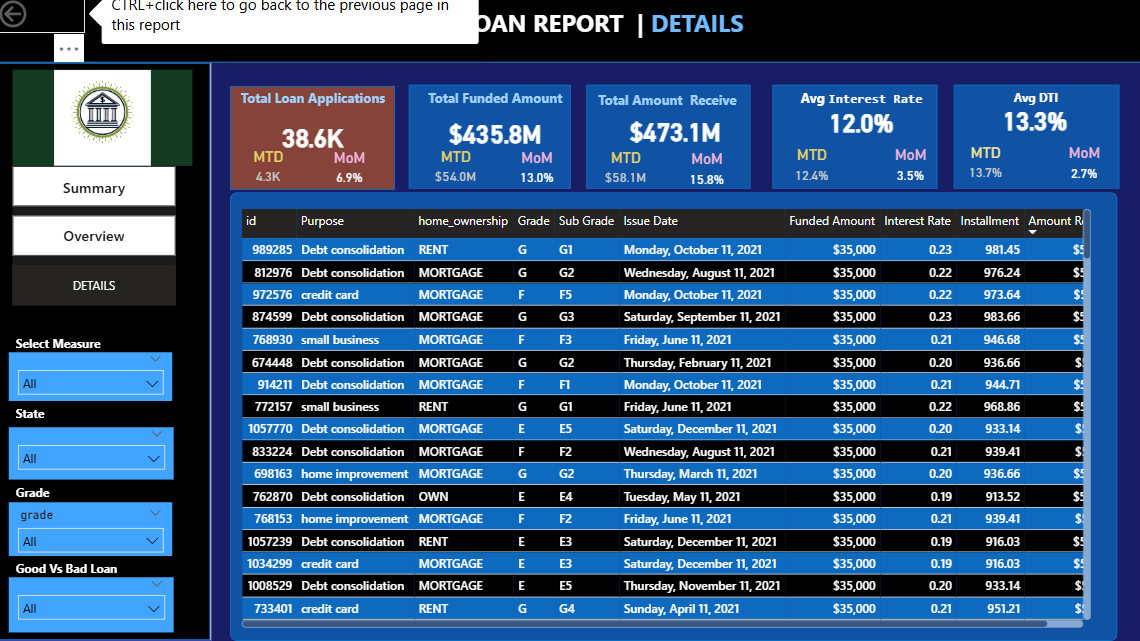

Layout of this report page (visuals, bound fields, positions):
{"tool":"powerbi","page":{"name":"DETAILS","canvas":[1280,720],"ordinal":2},"visuals":[{"type":"shape","box":[867.1,99.7,184,116.3],"z":0},{"type":"card","fields":{"Values":["financial_loan.Total Amount Recived"]},"box":[692.9,105.9,131.7,88.2],"z":0,"group":"g6"},{"type":"card","fields":{"Values":["financial_loan.Total Funded Amount"]},"box":[492.4,108.7,131.7,88.2],"z":0,"group":"g5"},{"type":"card","fields":{"Values":["financial_loan.Total Bank Loan Application"]},"box":[288.5,113.5,131.7,88.2],"z":0,"group":"g2"},{"type":"group","id":"g1","title":"Group 3","box":[875.5,96.7,180.7,121.9],"z":1000},{"type":"textbox","box":[268.9,99.5,217.1,40.6],"z":1000,"group":"g2"},{"type":"textbox","box":[479.1,99.5,217.1,40.6],"z":1000,"group":"g5"},{"type":"textbox","box":[668.2,100.9,217.1,40.6],"z":1000,"group":"g6"},{"type":"card","fields":{"Values":["financial_loan.Avg DTI"]},"box":[1095.2,93.9,131.2,88.8],"z":2000,"group":"g4"},{"type":"card","fields":{"Values":["financial_loan.Avg Interest Rate"]},"box":[900.5,96.7,131.2,88.8],"z":2000,"group":"g7"},{"type":"shape","box":[1070.2,99.7,184.9,116.3],"z":2000},{"type":"card","title":"MTD ","fields":{"Values":["financial_loan.MTD Loan Application"]},"box":[268.9,169.5,71.4,49],"z":2000,"group":"g2"},{"type":"card","title":"MTD ","fields":{"Values":["financial_loan.MTD Total Funded Amount"]},"box":[479.1,169.5,71.4,49],"z":2000,"group":"g5"},{"type":"card","title":"MTD ","fields":{"Values":["financial_loan.MTD Total Amount Recived"]},"box":[668.2,170.9,71.4,49],"z":2000,"group":"g6"},{"type":"card","title":"MoM","fields":{"Values":["financial_loan.MoM Loan Application"]},"box":[359.9,170.9,71.4,49],"z":3000,"group":"g2"},{"type":"card","title":"MoM","fields":{"Values":["financial_loan.MoM Total Funded Amount"]},"box":[570.1,170.9,71.4,49],"z":3000,"group":"g5"},{"type":"card","title":"MoM","fields":{"Values":["financial_loan.MoM Total Amount Recived"]},"box":[759.2,172.3,71.4,49],"z":3000,"group":"g6"},{"type":"shape","box":[262.2,219,990.2,500.7],"z":3000},{"type":"shape","box":[0,73.9,241.3,645.7],"z":4000},{"type":"shape","box":[261.9,99.8,184,116],"z":5000},{"type":"card","title":"MTD ","fields":{"Values":["financial_loan.MTD Avg DTI"]},"box":[1070.2,165.1,71.2,48.8],"z":5000,"group":"g4"},{"type":"card","title":"MTD ","fields":{"Values":["financial_loan.MTD Avg Int Rate"]},"box":[875.5,167.9,71.2,48.8],"z":5000,"group":"g7"},{"type":"shape","box":[0,0,1280.3,74.2],"z":6000},{"type":"group","id":"g2","title":"Group 2","box":[268.9,99.5,217.1,120.5],"z":6003,"group":"g3"},{"type":"textbox","box":[433.6,6.9,746.5,61.7],"z":7000},{"type":"card","title":"MoM","fields":{"Values":["financial_loan.MoM Avg DTI"]},"box":[1180.2,165.1,71.2,50],"z":7000,"group":"g4"},{"type":"card","title":"MoM","fields":{"Values":["financial_loan.MoM Avg Int Rate"]},"box":[985.5,167.9,71.2,50],"z":7000,"group":"g7"},{"type":"group","id":"g3","title":"Group 1","box":[268.9,99.5,217.1,120.5],"z":8000},{"type":"shape","box":[659.8,99.7,183.5,116.3],"z":9000},{"type":"shape","box":[462.2,99.7,180.7,116.3],"z":10000},{"type":"actionButton","box":[0,0,100,40],"z":11000},{"type":"group","id":"g4","title":"Group 4","box":[1070.2,93.9,182.1,121.9],"z":12000},{"type":"group","id":"g5","title":"Group 5","box":[479.1,99.5,217.1,120.5],"z":13000},{"type":"textbox","box":[885.5,99.2,162.5,38.8],"z":14000,"group":"g7"},{"type":"group","id":"g6","title":"Group 6","box":[668.2,100.9,217.1,120.5],"z":14000},{"type":"textbox","box":[1071.6,99.5,180.7,33.6],"z":15000},{"type":"slicer","fields":{"Values":["financial_loan.address_state"]},"box":[15.3,481.2,184.1,58.6],"z":16000},{"type":"textbox","box":[18.1,451.9,62.8,40.4],"z":17000},{"type":"slicer","fields":{"Values":["financial_loan.grade"]},"box":[15.3,564.8,182.7,60],"z":18000},{"type":"slicer","fields":{"Values":["financial_loan.Good vs Bad Loan"]},"box":[15.3,648.5,184.1,61.4],"z":19000},{"type":"textbox","box":[18.1,539.7,92,50.2],"z":20000},{"type":"slicer","fields":{"Values":["Select Measure.Select Measure"]},"box":[15.3,397.5,182.7,54.4],"z":21000},{"type":"textbox","box":[18.1,373.8,140.9,47.4],"z":22000},{"type":"textbox","box":[18.1,624.8,182.7,33.5],"z":23000},{"type":"tableEx","fields":{"Values":["financial_loan.id","financial_loan.purpose","financial_loan.home_ownership","financial_loan.grade","financial_loan.sub_grade","financial_loan.issue_date","financial_loan.Total Funded Amount","Sum(financial_loan.int_rate)","Sum(financial_loan.installment)","financial_loan.Total Amount Recived"]},"box":[268.6,232.9,958.6,477.1],"z":24000},{"type":"pageNavigator","box":[19.5,189.7,182.7,156.2],"z":25000},{"type":"image","box":[19.5,82.3,200.8,107.4],"z":26000},{"type":"group","id":"g7","title":"Group 7","box":[875.5,96.7,181.2,121.2],"z":33001,"group":"g1"}]}

Visuals, with their boxes on the page's 1280x720 design canvas (x1, y1, x2, y2). These are canvas units, not pixel positions in the 1140x641 screenshot, which may show the page scaled, cropped or inside an application window:
shape: {"x1": 867, "y1": 100, "x2": 1051, "y2": 216}
card - financial_loan.Total Amount Recived: {"x1": 693, "y1": 106, "x2": 825, "y2": 194}
card - financial_loan.Total Funded Amount: {"x1": 492, "y1": 109, "x2": 624, "y2": 197}
card - financial_loan.Total Bank Loan Application: {"x1": 288, "y1": 114, "x2": 420, "y2": 202}
"Group 3" group: {"x1": 876, "y1": 97, "x2": 1056, "y2": 219}
textbox: {"x1": 269, "y1": 100, "x2": 486, "y2": 140}
textbox: {"x1": 479, "y1": 100, "x2": 696, "y2": 140}
textbox: {"x1": 668, "y1": 101, "x2": 885, "y2": 142}
card - financial_loan.Avg DTI: {"x1": 1095, "y1": 94, "x2": 1226, "y2": 183}
card - financial_loan.Avg Interest Rate: {"x1": 900, "y1": 97, "x2": 1032, "y2": 186}
shape: {"x1": 1070, "y1": 100, "x2": 1255, "y2": 216}
"MTD " card: {"x1": 269, "y1": 170, "x2": 340, "y2": 218}
"MTD " card: {"x1": 479, "y1": 170, "x2": 550, "y2": 218}
"MTD " card: {"x1": 668, "y1": 171, "x2": 740, "y2": 220}
"MoM" card: {"x1": 360, "y1": 171, "x2": 431, "y2": 220}
"MoM" card: {"x1": 570, "y1": 171, "x2": 642, "y2": 220}
"MoM" card: {"x1": 759, "y1": 172, "x2": 831, "y2": 221}
shape: {"x1": 262, "y1": 219, "x2": 1252, "y2": 720}
shape: {"x1": 0, "y1": 74, "x2": 241, "y2": 720}
shape: {"x1": 262, "y1": 100, "x2": 446, "y2": 216}
"MTD " card: {"x1": 1070, "y1": 165, "x2": 1141, "y2": 214}
"MTD " card: {"x1": 876, "y1": 168, "x2": 947, "y2": 217}
shape: {"x1": 0, "y1": 0, "x2": 1280, "y2": 74}
"Group 2" group: {"x1": 269, "y1": 100, "x2": 486, "y2": 220}
textbox: {"x1": 434, "y1": 7, "x2": 1180, "y2": 69}
"MoM" card: {"x1": 1180, "y1": 165, "x2": 1251, "y2": 215}
"MoM" card: {"x1": 986, "y1": 168, "x2": 1057, "y2": 218}
"Group 1" group: {"x1": 269, "y1": 100, "x2": 486, "y2": 220}
shape: {"x1": 660, "y1": 100, "x2": 843, "y2": 216}
shape: {"x1": 462, "y1": 100, "x2": 643, "y2": 216}
actionButton: {"x1": 0, "y1": 0, "x2": 100, "y2": 40}
"Group 4" group: {"x1": 1070, "y1": 94, "x2": 1252, "y2": 216}
"Group 5" group: {"x1": 479, "y1": 100, "x2": 696, "y2": 220}
textbox: {"x1": 886, "y1": 99, "x2": 1048, "y2": 138}
"Group 6" group: {"x1": 668, "y1": 101, "x2": 885, "y2": 221}
textbox: {"x1": 1072, "y1": 100, "x2": 1252, "y2": 133}
slicer - financial_loan.address_state: {"x1": 15, "y1": 481, "x2": 199, "y2": 540}
textbox: {"x1": 18, "y1": 452, "x2": 81, "y2": 492}
slicer - financial_loan.grade: {"x1": 15, "y1": 565, "x2": 198, "y2": 625}
slicer - financial_loan.Good vs Bad Loan: {"x1": 15, "y1": 648, "x2": 199, "y2": 710}
textbox: {"x1": 18, "y1": 540, "x2": 110, "y2": 590}
slicer - Select Measure.Select Measure: {"x1": 15, "y1": 398, "x2": 198, "y2": 452}
textbox: {"x1": 18, "y1": 374, "x2": 159, "y2": 421}
textbox: {"x1": 18, "y1": 625, "x2": 201, "y2": 658}
tableEx - financial_loan.id x financial_loan.purpose: {"x1": 269, "y1": 233, "x2": 1227, "y2": 710}
pageNavigator: {"x1": 20, "y1": 190, "x2": 202, "y2": 346}
image: {"x1": 20, "y1": 82, "x2": 220, "y2": 190}
"Group 7" group: {"x1": 876, "y1": 97, "x2": 1057, "y2": 218}
